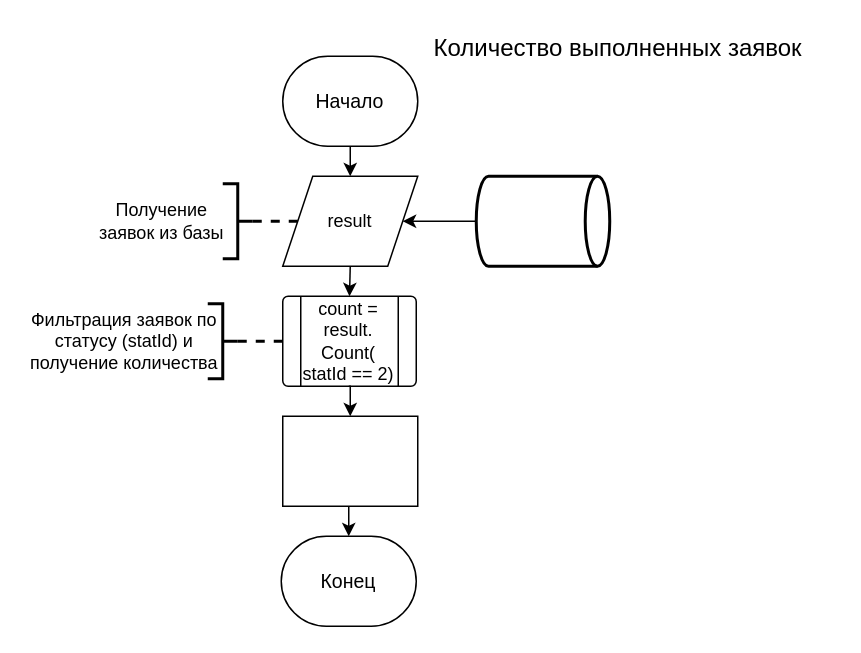
The diagram is 861 pixels wide and 653 high, and some of its shapes have lost their labels. The centre of each missing label's shape, as x and y in pixels:
"Requests" goes at point 542,220.
"return count" goes at point 349,460.
